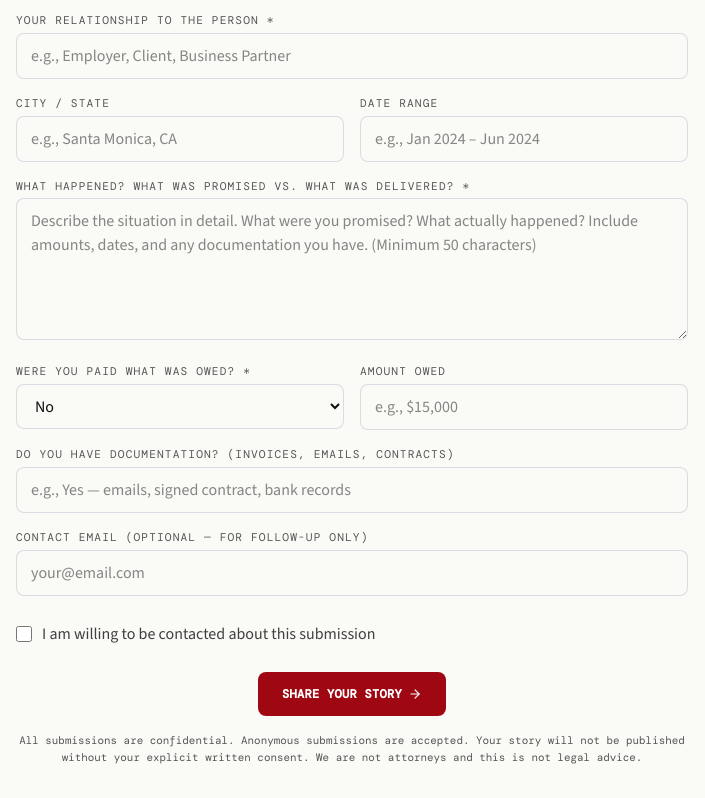
Scenario: StoryForm › shows the required-field errors and sends nothing when submitted empty
The width and height of the screenshot is (705, 798).
Click the button "Share Your Story": x=352, y=694 [258, 672, 446, 716]
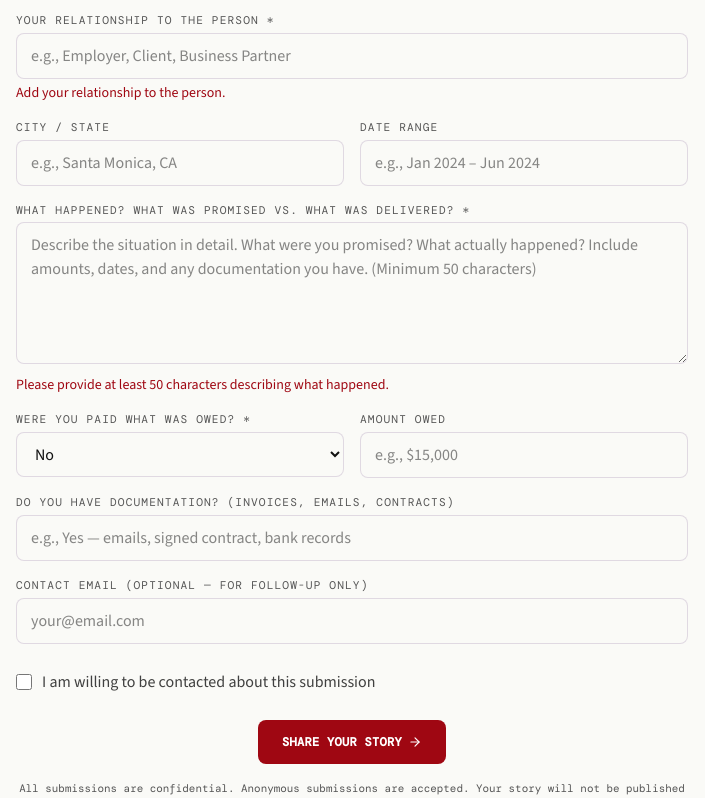
Expected: the text "Add your relationship to the person." is shown, [16, 83, 226, 102]
Expected: the text "at least 50 characters" is shown, [16, 375, 389, 394]
